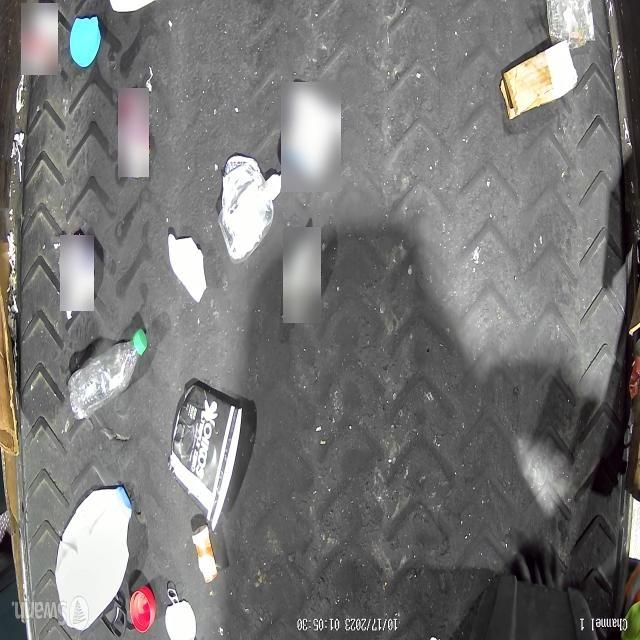milk_jug: (55, 487, 131, 630)
plastic_bottle: (70, 328, 148, 420)
